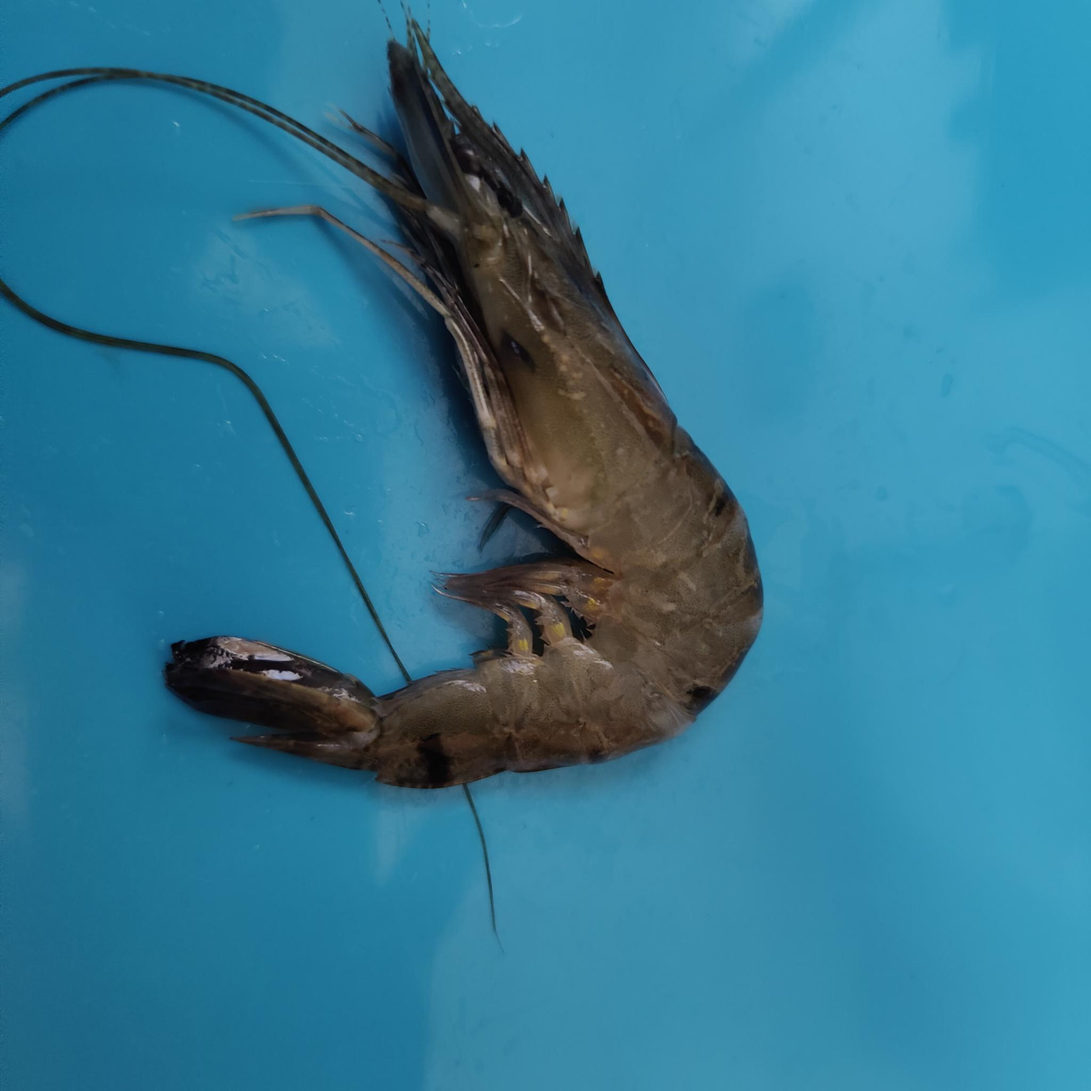whitespot: (541, 349, 690, 541), (690, 481, 745, 582)
